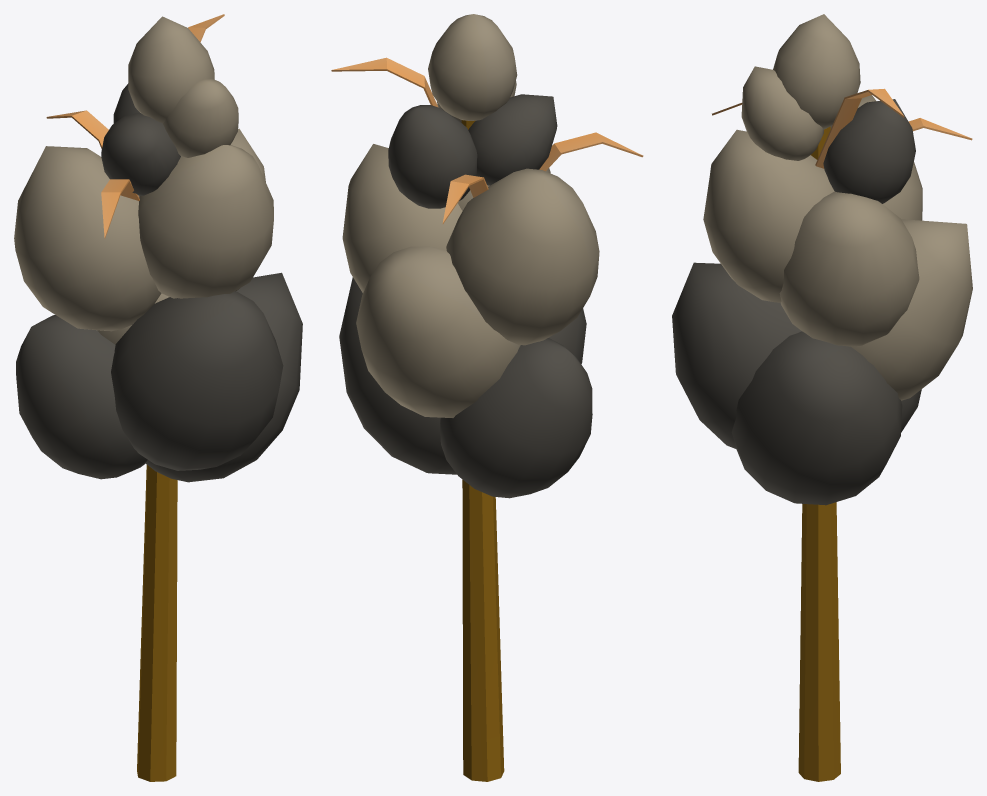
File: grain_burnt.fbx
The picture shows the model from 3 angles, left to right: view 1: azimuth 30°, elevation 25°; view 2: azimuth 150°, elevation 25°; view 3: azimuth 270°, elevation 25°; orthographic projection.
Parts seen in each view (by area): view 1: grain_burnt; view 2: grain_burnt; view 3: grain_burnt.
Boxes of the visible parts, x1=… form: grain_burnt: x1=14, y1=14, x2=302, y2=781; grain_burnt: x1=331, y1=14, x2=643, y2=781; grain_burnt: x1=672, y1=14, x2=972, y2=781.
Size of the model in its own units: 82.58 by 232 by 82.9.
